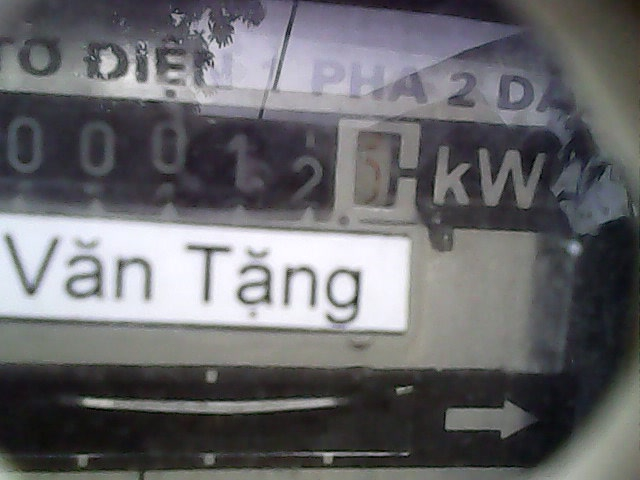phy_plate: (1, 89, 432, 232)
